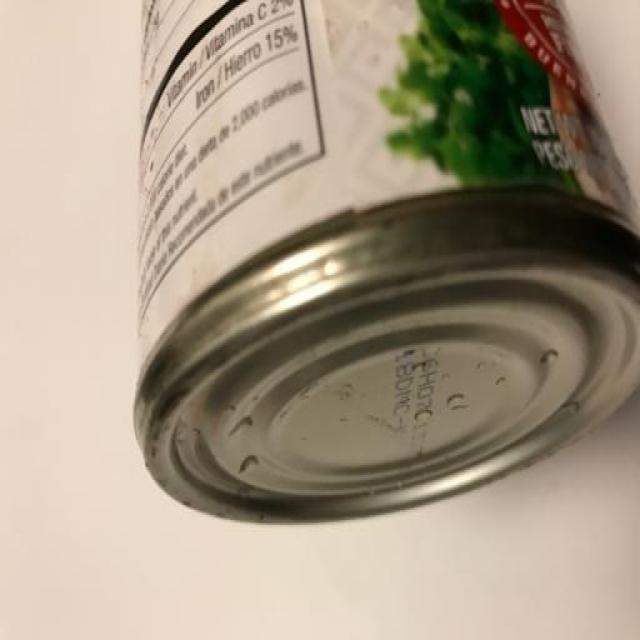metel: (142, 1, 640, 484)
